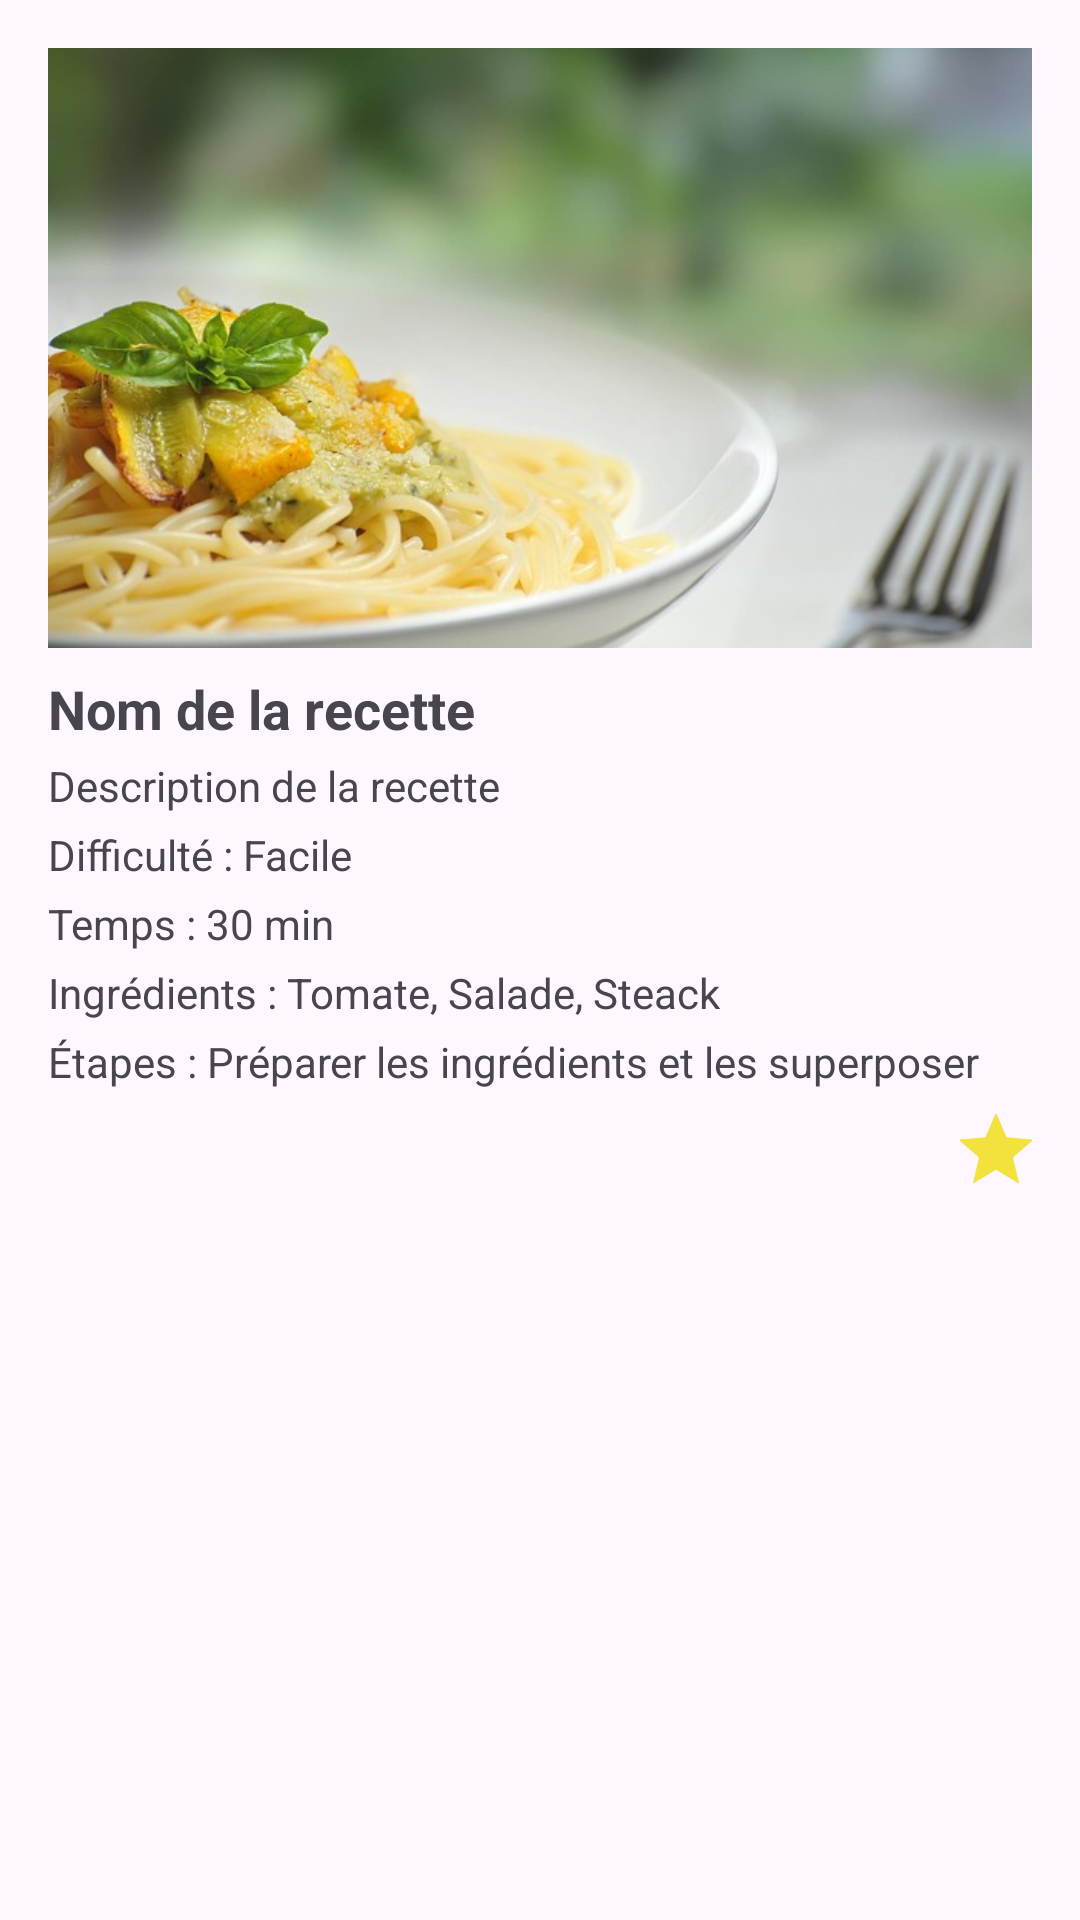

Icons on this 1080x1920 Android screen, each with the point to tap as [x,y]:
star: [996,1149]
